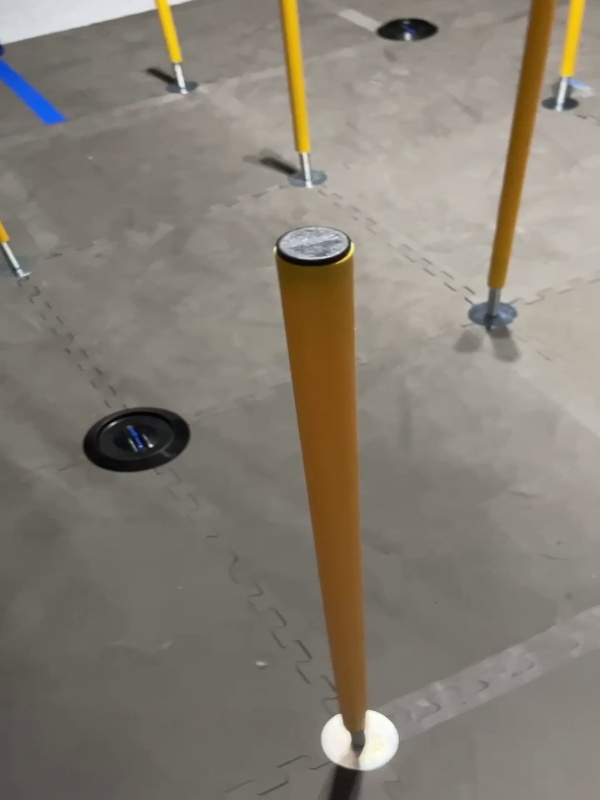base: (310, 704, 408, 778)
top: (264, 221, 360, 273)
